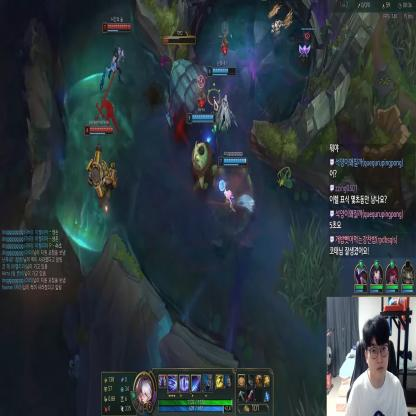streamer: (345, 314, 408, 416)
